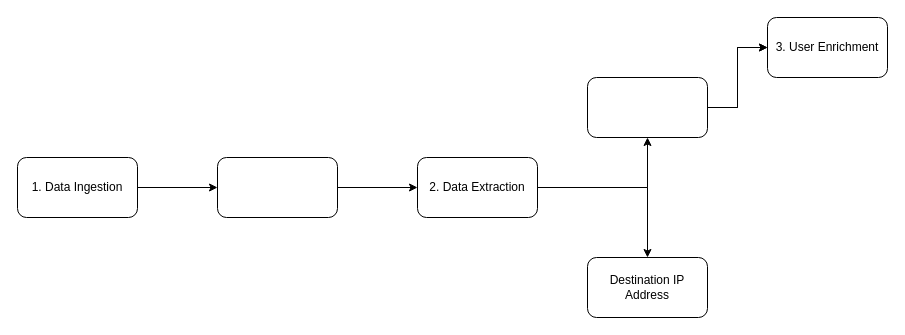
The diagram is 905 pixels wide and 335 high, and some of its shapes have lost their labels. Here are the shapes that lost their labels. From the top down, the box of each, then its label:
(586, 76, 708, 138): Source IP Address
(216, 156, 338, 218): Qradar Offences (Fetch Incident)
